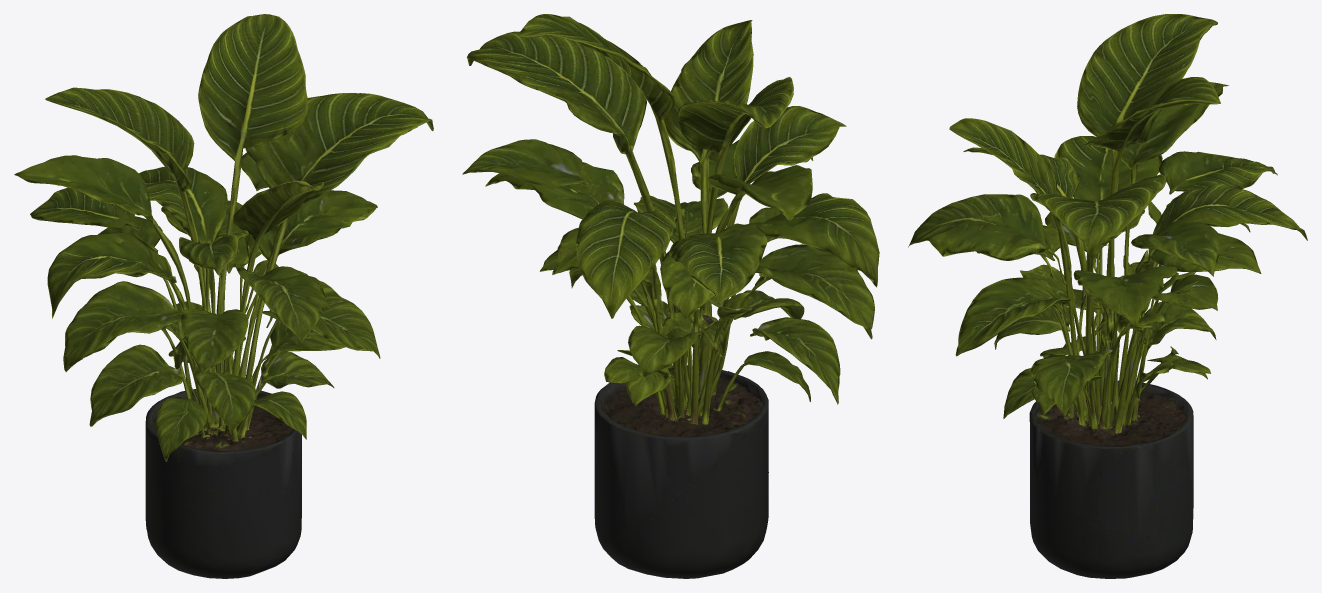
File: potted-plant.glb
3 views of the same model, side by side, from view 1: azimuth 30°, elevation 25°; view 2: azimuth 150°, elevation 25°; view 3: azimuth 270°, elevation 25° (orthographic). The views are drawn at different scales.
Size of the model in its own units: 1.54 by 1.9 by 1.37.
Materials: 1 (1 with a texture image).
